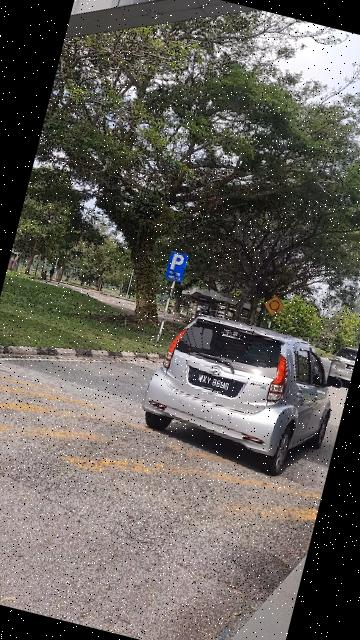License_Plate: (184, 365, 250, 403)
car: (136, 303, 353, 486)
